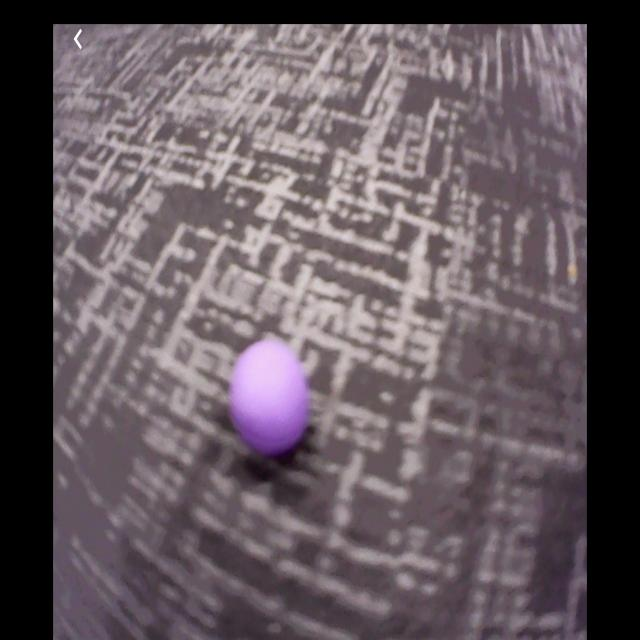ball: (231, 342, 310, 455)
